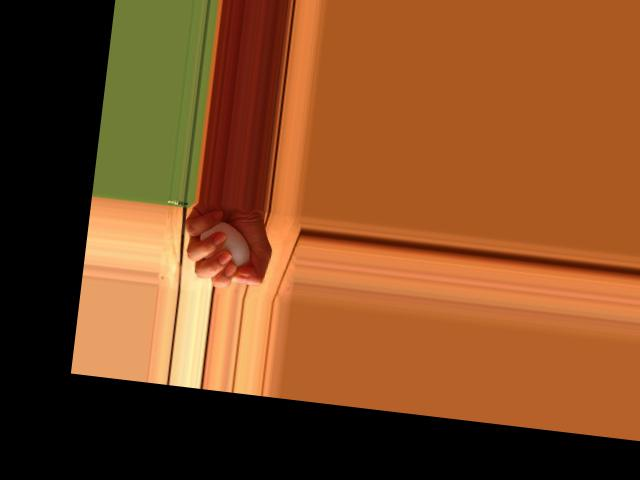egg: (195, 218, 253, 272)
